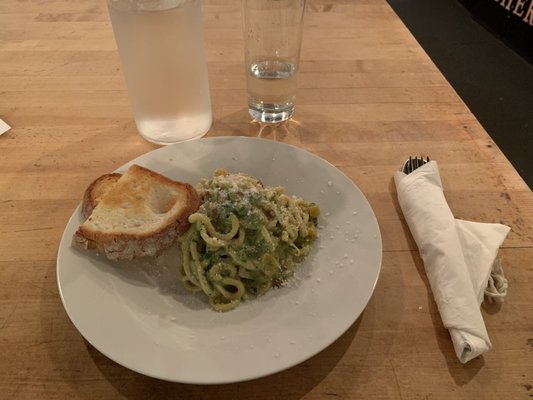curry: (178, 169, 320, 313)
sandwich: (392, 157, 494, 368)
soup: (75, 164, 202, 262)
